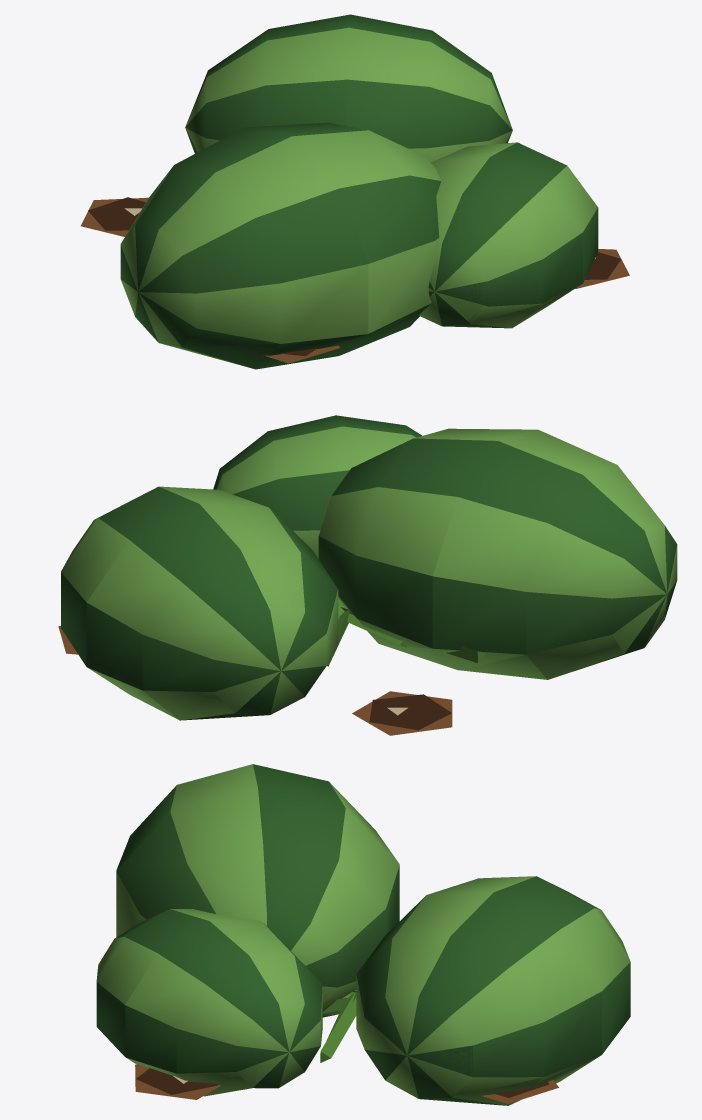
The model's file is watermelon.glb.
3 views of the same model, one above another, from view 1: azimuth 30°, elevation 25°; view 2: azimuth 150°, elevation 25°; view 3: azimuth 270°, elevation 25° (orthographic). The views are drawn at different scales.
Parts seen in each view (by area): view 1: crop-watermelon-3, crop-watermelon-0, crop-watermelon-3-far; view 2: crop-watermelon-3, crop-watermelon-0; view 3: crop-watermelon-3, crop-watermelon-0, crop-watermelon-2, crop-watermelon-3-far.
Boxes of the visible parts, left/top/right/bottom form: crop-watermelon-3: left=120, top=14, right=598, bottom=369; crop-watermelon-0: left=81, top=197, right=629, bottom=363; crop-watermelon-3-far: left=265, top=60, right=488, bottom=320; crop-watermelon-3: left=61, top=415, right=677, bottom=720; crop-watermelon-0: left=58, top=626, right=452, bottom=735; crop-watermelon-3: left=96, top=764, right=630, bottom=1105; crop-watermelon-0: left=135, top=1064, right=558, bottom=1103; crop-watermelon-2: left=320, top=990, right=356, bottom=1062; crop-watermelon-3-far: left=296, top=957, right=472, bottom=1075.
Bounding box in the file's own units: 1.64 × 0.5227 × 1.6.
